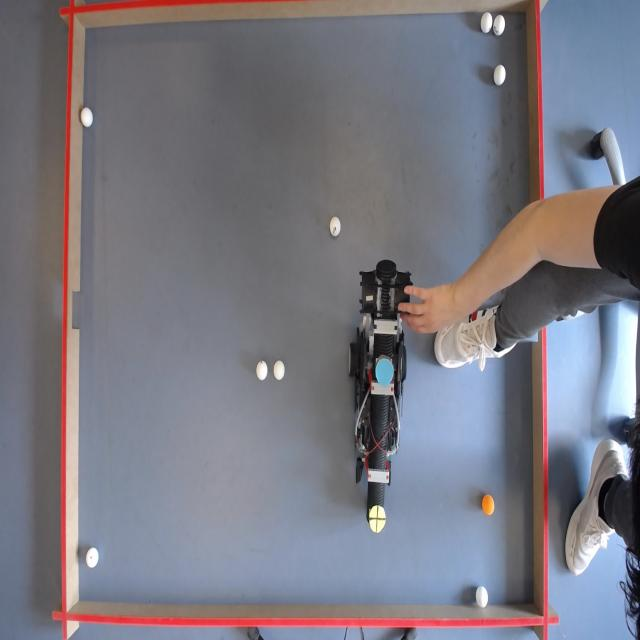orange: (482, 494, 497, 516)
robot: (349, 268, 416, 530)
robot-front: (370, 506, 386, 534)
robot-rear: (376, 356, 395, 386)
white: (477, 586, 491, 610), (494, 65, 507, 86), (80, 106, 93, 127), (86, 548, 99, 569), (493, 15, 505, 36), (274, 360, 286, 380), (329, 216, 340, 236), (256, 360, 267, 379)
